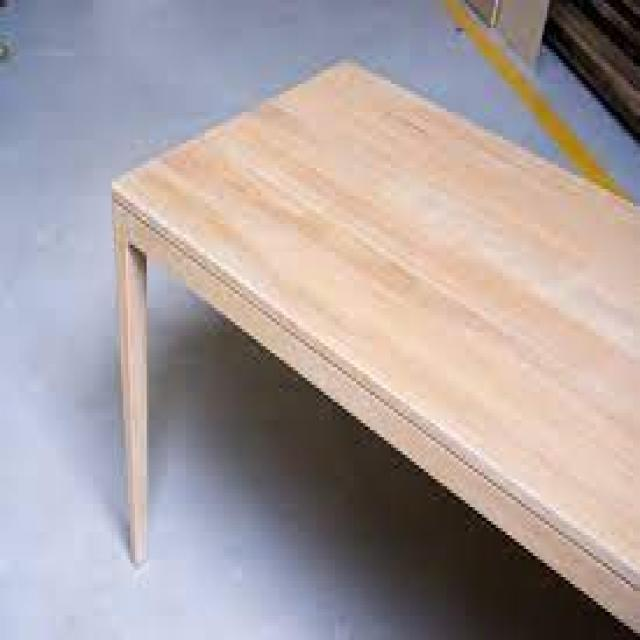Table: (83, 48, 640, 640)
